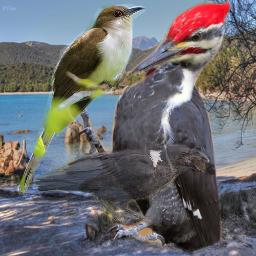Crow: (27, 142, 210, 227)
Cuckoo: (16, 3, 145, 195)
Woodpecker: (65, 1, 230, 255)
